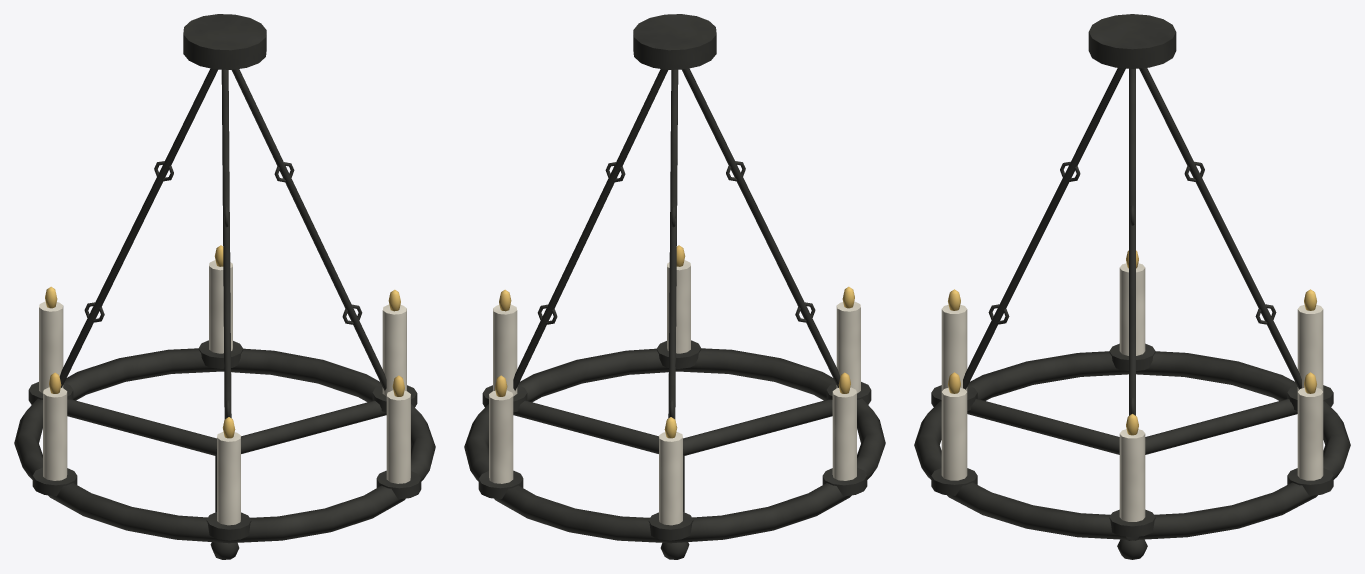
The model's file is Furn_Chandelier.fbx.
The picture shows the model from 3 angles, left to right: view 1: azimuth 30°, elevation 25°; view 2: azimuth 150°, elevation 25°; view 3: azimuth 270°, elevation 25°; orthographic projection.
Parts seen in each view (by area): view 1: Furn_Chandelier_Mesh; view 2: Furn_Chandelier_Mesh; view 3: Furn_Chandelier_Mesh.
Part boxes in pixels (box(x1,y1,x2,y2)): Furn_Chandelier_Mesh: box(14, 14, 435, 559); Furn_Chandelier_Mesh: box(464, 14, 885, 559); Furn_Chandelier_Mesh: box(914, 14, 1350, 559).
Size of the model in its own units: 0.9 by 1.2 by 0.9.
Materials: 3 (3 with a texture image).
